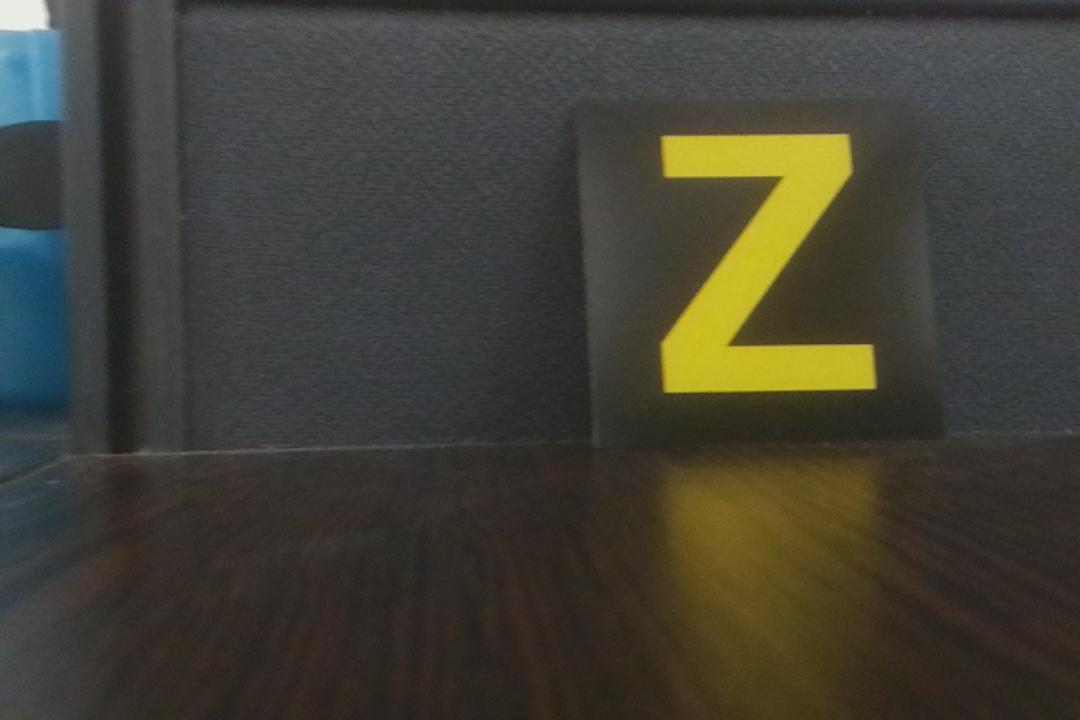alphabet_z: (577, 99, 941, 439)
